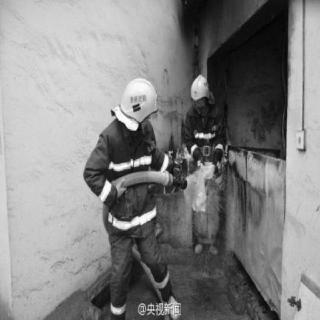Fire: (212, 138, 234, 176), (188, 177, 208, 215), (177, 142, 195, 168)
Smoke: (180, 63, 212, 101), (194, 124, 216, 140), (214, 141, 224, 153)
